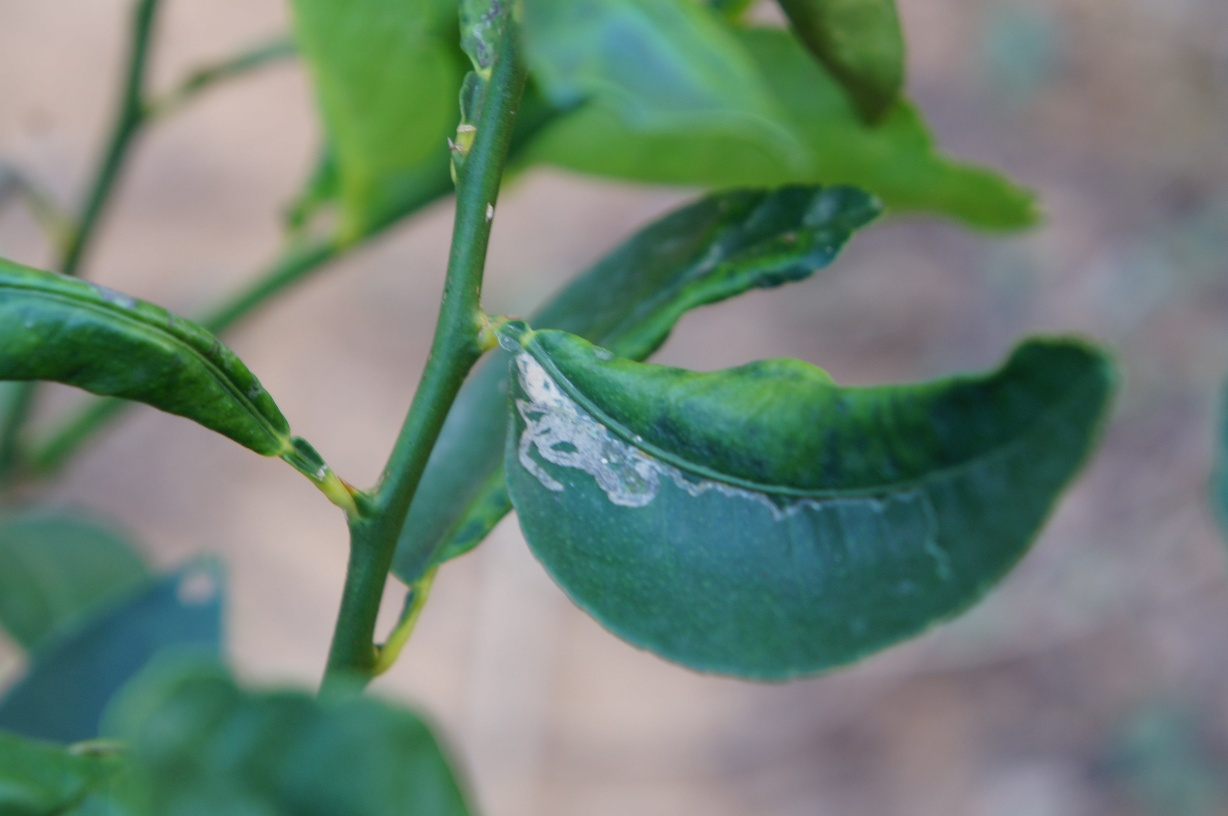curly: (0, 244, 299, 477)
damage: (501, 342, 855, 546)
